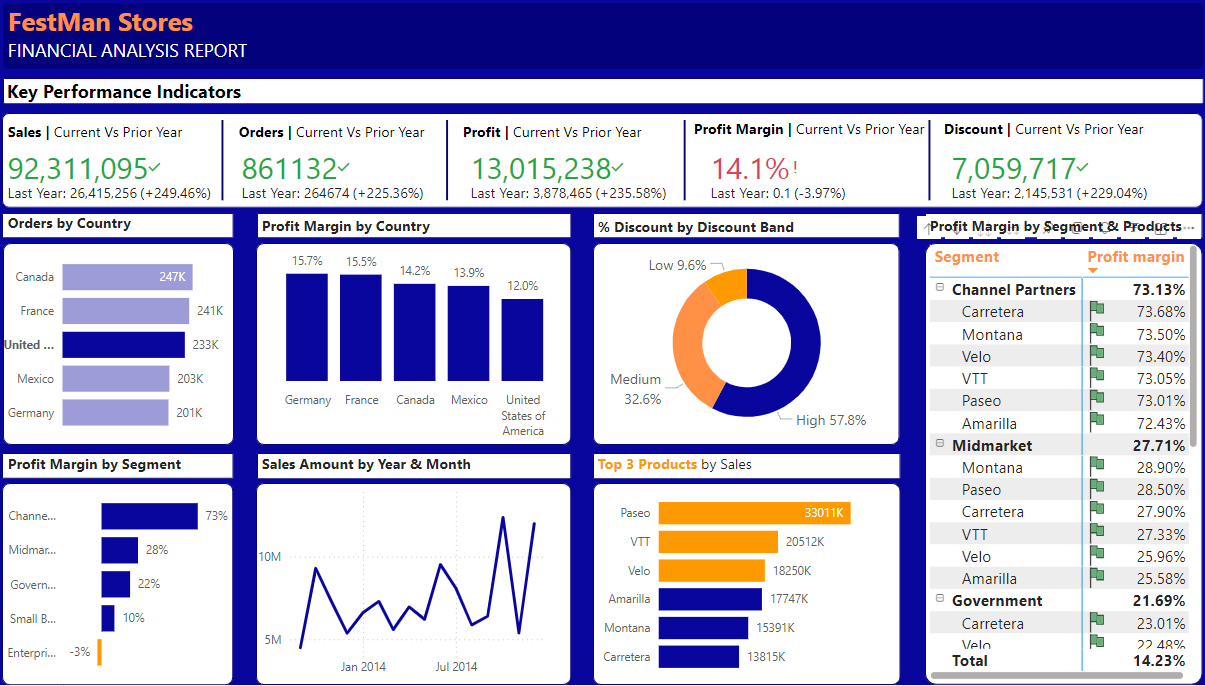

The page's visual inventory and layout, read from the dashboard file:
{"tool":"powerbi","page":{"name":"Page 2","canvas":[1280,720],"ordinal":0},"visuals":[{"type":"shape","box":[968,263,287,457],"z":0},{"type":"shape","box":[14,14,1242,68],"z":1000},{"type":"shape","box":[14,92,1242,27],"z":2000},{"type":"shape","box":[13,128,1242,98],"z":3000},{"type":"shape","box":[14,263,239,209],"z":4000},{"type":"shape","box":[276,263,326,209],"z":5000},{"type":"shape","box":[625,263,317,209],"z":6000},{"type":"shape","box":[13.6,510.6,239.3,209.1],"z":7000},{"type":"shape","box":[276,511,326,209],"z":8000},{"type":"shape","box":[625,511,318,209],"z":9000},{"type":"shape","box":[13.5,480.4,239.6,26.5],"z":10000},{"type":"shape","box":[277,480,325,27],"z":11000},{"type":"shape","box":[625,480,318,27],"z":12000},{"type":"shape","box":[13.5,232.2,239.6,26.1],"z":13000},{"type":"shape","box":[277,232.2,325.2,26.1],"z":14000},{"type":"shape","box":[625.2,232.2,317.4,26.1],"z":15000},{"type":"shape","box":[968,232,287,26],"z":16000},{"type":"textbox","box":[14,9,282,55],"z":17000},{"type":"textbox","box":[14,46,545,36],"z":18000},{"type":"textbox","box":[13.8,88.1,367.3,43.1],"z":19000},{"type":"kpi","fields":{"TrendLine":["Date Table.Year"],"Indicator":["Analysis.Sales Amount"],"Goal":["Analysis.Sales Amount LY"]},"box":[6,150,297,88],"z":20000},{"type":"textbox","box":[14,131,221,38],"z":21000},{"type":"shape","box":[120,135,243,83],"z":22000},{"type":"kpi","fields":{"TrendLine":["Date Table.Year"],"Goal":["Analysis.Orders LY"],"Indicator":["Analysis.Orders"]},"box":[248.5,150,297,88],"z":23000},{"type":"kpi","fields":{"TrendLine":["Date Table.Year"],"Goal":["Analysis.Pofit LY"],"Indicator":["Analysis.Profit"]},"box":[485,150,297,88],"z":24000},{"type":"kpi","fields":{"TrendLine":["Date Table.Year"],"Indicator":["Analysis.Profit margin"],"Goal":["Analysis.Profit Margin LY"]},"box":[733.5,150,297,88],"z":25000},{"type":"kpi","fields":{"TrendLine":["Date Table.Year"],"Indicator":["Analysis.Discount offered"],"Goal":["Analysis.Discount Offered LY"]},"box":[983,150,297,88],"z":26000},{"type":"textbox","box":[253,131,221,38],"z":27000},{"type":"textbox","box":[485,131,221,38],"z":28000},{"type":"textbox","box":[724,128,315,38],"z":29000},{"type":"textbox","box":[983,128,243,38],"z":30000},{"type":"shape","box":[371,135,205,83],"z":31000},{"type":"shape","box":[634,135,171,83],"z":32000},{"type":"shape","box":[851,135,243,83],"z":33000},{"type":"barChart","fields":{"Category":["financials.Country"],"Y":["Analysis.Orders"]},"box":[1,258,248,214],"z":34000},{"type":"textbox","box":[14,226,243,43],"z":35000},{"type":"clusteredColumnChart","fields":{"Y":["Analysis.Profit margin"],"Category":["financials.Country"]},"box":[273,255,329,217],"z":36000},{"type":"textbox","box":[277,229,259,34],"z":37000},{"type":"donutChart","fields":{"Category":["financials.Discount Band"],"Y":["Analysis.Discount offered"]},"box":[625,258,318,217],"z":38000},{"type":"textbox","box":[625.3,229.3,229.3,31.3],"z":39000},{"type":"barChart","fields":{"Category":["financials.Segment"],"Y":["Analysis.Profit margin"]},"box":[1,505,256,215],"z":40000},{"type":"lineChart","fields":{"Category":["Date Table.Date.Variation.Date Hierarchy.Year","Date Table.Date.Variation.Date Hierarchy.Month"],"Y":["Analysis.Sales Amount"]},"box":[273,505,318,215],"z":41000},{"type":"barChart","fields":{"Category":["financials.Product"],"Y":["Analysis.Sales Amount"]},"box":[625,506,318,214],"z":42000},{"type":"textbox","box":[14.1,475.3,242.9,42.9],"z":43000},{"type":"textbox","box":[277.1,475.3,242.9,42.9],"z":44000},{"type":"textbox","box":[625.3,475.3,242.9,42.9],"z":45000},{"type":"pivotTable","fields":{"Rows":["financials.Segment","financials.Product"],"Values":["Analysis.Profit margin"]},"box":[968,260,287,460],"z":46000},{"type":"textbox","box":[968,229,312,32],"z":46001}]}

Visuals, with their boxes in screenshot pixels (x1, y1, x2, y2), scaled from the page's 1280x720 canvas onto the 1205x686 screenshot:
shape: detection(911, 251, 1181, 685)
shape: detection(13, 13, 1182, 78)
shape: detection(13, 88, 1182, 113)
shape: detection(12, 122, 1181, 215)
shape: detection(13, 251, 238, 450)
shape: detection(260, 251, 567, 450)
shape: detection(588, 251, 887, 450)
shape: detection(13, 486, 238, 685)
shape: detection(260, 487, 567, 685)
shape: detection(588, 487, 888, 685)
shape: detection(13, 458, 238, 483)
shape: detection(261, 457, 567, 483)
shape: detection(588, 457, 888, 483)
shape: detection(13, 221, 238, 246)
shape: detection(261, 221, 567, 246)
shape: detection(589, 221, 887, 246)
shape: detection(911, 221, 1181, 246)
textbox: detection(13, 9, 279, 61)
textbox: detection(13, 44, 526, 78)
textbox: detection(13, 84, 359, 125)
kpi - Date Table.Year x Analysis.Sales Amount: detection(6, 143, 285, 227)
textbox: detection(13, 125, 221, 161)
shape: detection(113, 129, 342, 208)
kpi - Date Table.Year x Analysis.Orders LY: detection(234, 143, 514, 227)
kpi - Date Table.Year x Analysis.Pofit LY: detection(457, 143, 736, 227)
kpi - Date Table.Year x Analysis.Profit margin: detection(691, 143, 970, 227)
kpi - Date Table.Year x Analysis.Discount offered: detection(925, 143, 1204, 227)
textbox: detection(238, 125, 446, 161)
textbox: detection(457, 125, 665, 161)
textbox: detection(682, 122, 978, 158)
textbox: detection(925, 122, 1154, 158)
shape: detection(349, 129, 542, 208)
shape: detection(597, 129, 758, 208)
shape: detection(801, 129, 1030, 208)
barChart - financials.Country x Analysis.Orders: detection(1, 246, 234, 450)
textbox: detection(13, 215, 242, 256)
clusteredColumnChart - Analysis.Profit margin x financials.Country: detection(257, 243, 567, 450)
textbox: detection(261, 218, 505, 251)
donutChart - financials.Discount Band x Analysis.Discount offered: detection(588, 246, 888, 453)
textbox: detection(589, 218, 805, 248)
barChart - financials.Segment x Analysis.Profit margin: detection(1, 481, 242, 685)
lineChart - Date Table.Date.Variation.Date Hierarchy.Year x Date Table.Date.Variation.Date Hierarchy.Month: detection(257, 481, 556, 685)
barChart - financials.Product x Analysis.Sales Amount: detection(588, 482, 888, 685)
textbox: detection(13, 453, 242, 494)
textbox: detection(261, 453, 490, 494)
textbox: detection(589, 453, 817, 494)
pivotTable - financials.Segment x financials.Product: detection(911, 248, 1181, 685)
textbox: detection(911, 218, 1204, 249)
